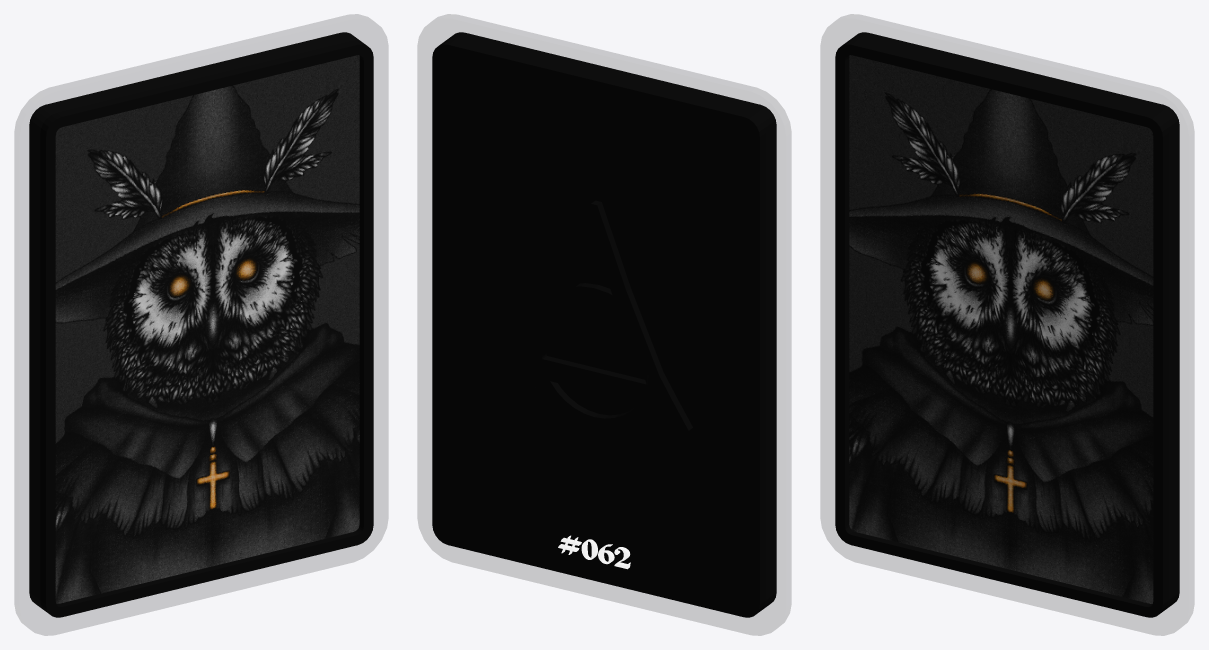
The picture shows the model from 3 angles, left to right: view 1: azimuth 30°, elevation 25°; view 2: azimuth 150°, elevation 25°; view 3: azimuth 330°, elevation 25°; orthographic projection.
Visible parts, largest first — view 1: Card.147, CardBorder.147; view 2: Card.147, CardBorder.147, Площина.040, Текст; view 3: Card.147, CardBorder.147.
Part boxes in pixels (<box>): Card.147: <box>29,32,373,617</box>; CardBorder.147: <box>15,14,387,635</box>; Card.147: <box>432,32,776,617</box>; CardBorder.147: <box>418,14,790,635</box>; Площина.040: <box>500,200,692,436</box>; Текст: <box>558,535,630,569</box>; Card.147: <box>835,32,1179,617</box>; CardBorder.147: <box>821,14,1193,635</box>.
Size of the model in its own units: 1.1 by 1.55 by 0.1091.
Materials: 5 (1 with a texture image).
